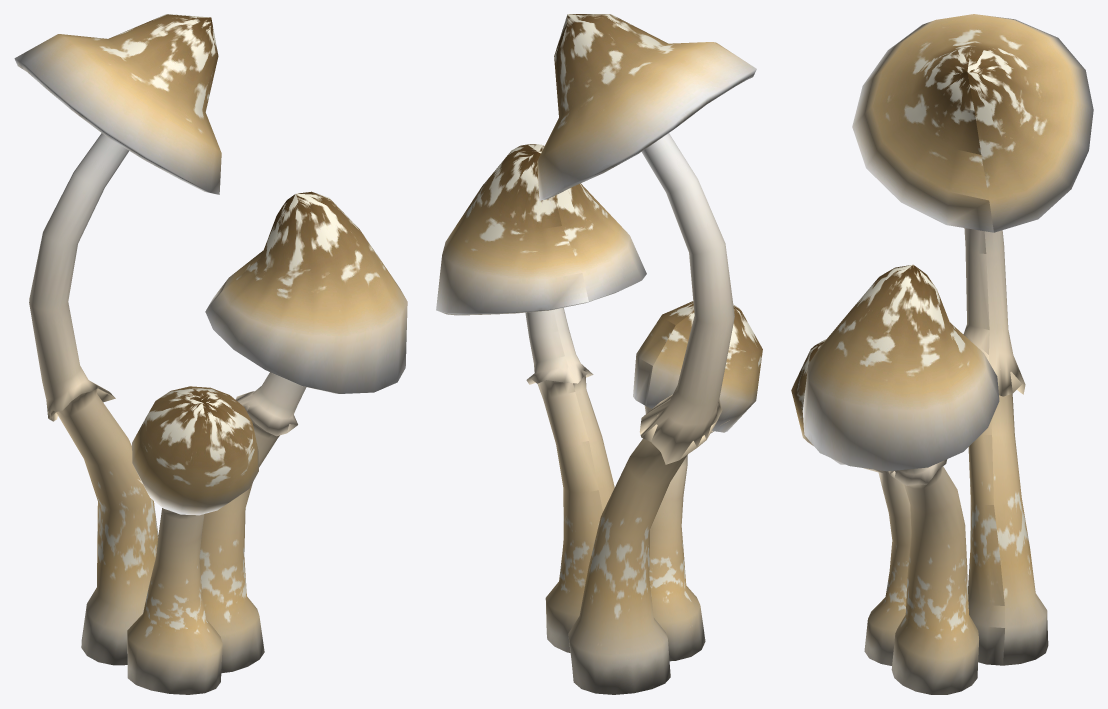
File: mushrooms01_group.glb
3 renders of one model, left to right at view 1: azimuth 30°, elevation 25°; view 2: azimuth 150°, elevation 25°; view 3: azimuth 270°, elevation 25°, orthographic. The views are drawn at different scales.
Visible parts, largest first — view 1: Mushroom_1, Mushroom_0, Mushroom_2; view 2: Mushroom_1, Mushroom_0, Mushroom_2; view 3: Mushroom_1, Mushroom_0, Mushroom_2.
Part boxes in pixels (x1,y1,x2,y2): Mushroom_1: (14, 14, 221, 665); Mushroom_0: (199, 191, 407, 673); Mushroom_2: (127, 386, 258, 694); Mushroom_1: (537, 14, 756, 694); Mushroom_0: (436, 144, 646, 652); Mushroom_2: (633, 301, 762, 661); Mushroom_1: (852, 14, 1093, 665); Mushroom_0: (802, 264, 999, 694); Mushroom_2: (791, 339, 911, 665).
Size of the model in its own units: 235 by 447 by 199.
1 material, 1 textured.
